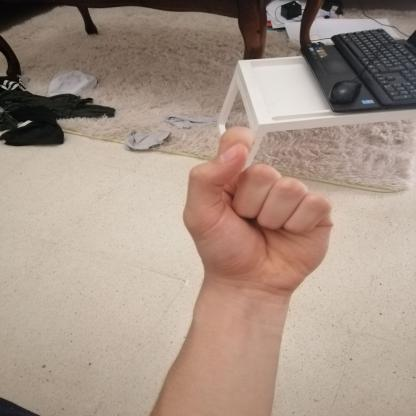FAA: (170, 113, 352, 306)
